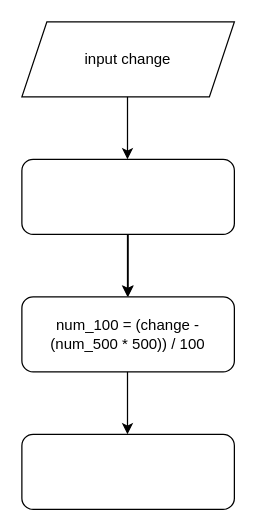
Some shapes in this 256 by 531 pixel diagram are drawn without their labels. Here are the shapes that lost their labels. From the top down, the centre of each, then its label:
At (127,196): "num_500 = change // 500".
At (127,471): "output num_500, num_100".
